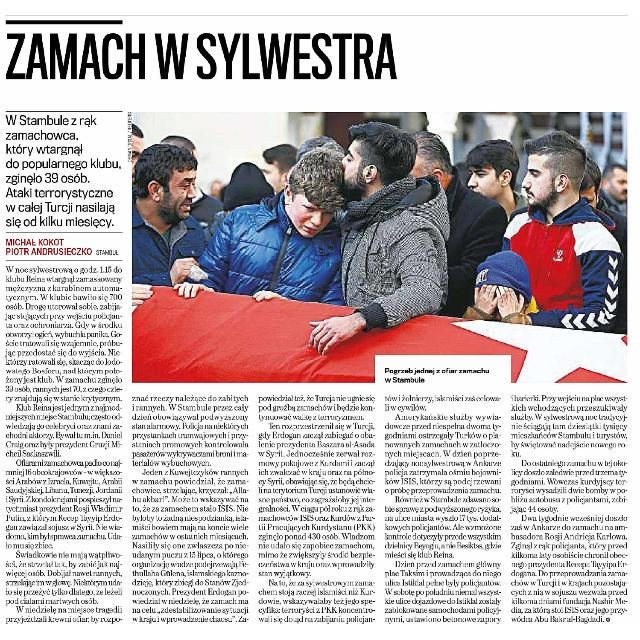author: (2, 235, 94, 258)
body: (2, 262, 126, 626), (509, 391, 635, 623), (256, 392, 380, 624), (384, 392, 506, 626), (130, 391, 250, 625)
caption: (382, 363, 492, 382)
image: (128, 109, 632, 387)
lead: (2, 112, 122, 230)
title: (3, 29, 413, 83)
